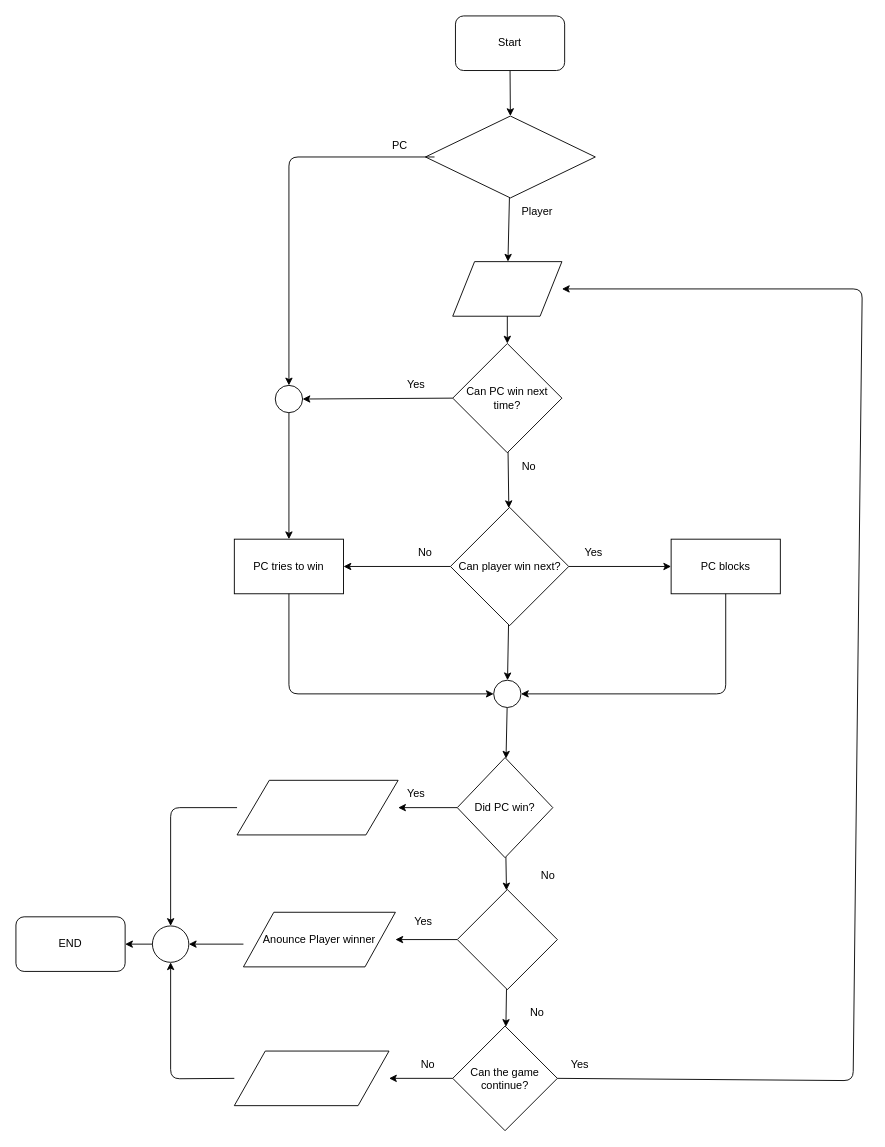
This 885x1147 diagram has some shape labels left out. Each missing label, with the centre of its shape:
"Announce draw" belongs at point (311, 1078).
"Announces PC winner" belongs at point (317, 807).
"Choose who starts: PC or player" belongs at point (510, 156).
"Did player win?" belongs at point (506, 939).
"Player inputs number" belongs at point (507, 288).
